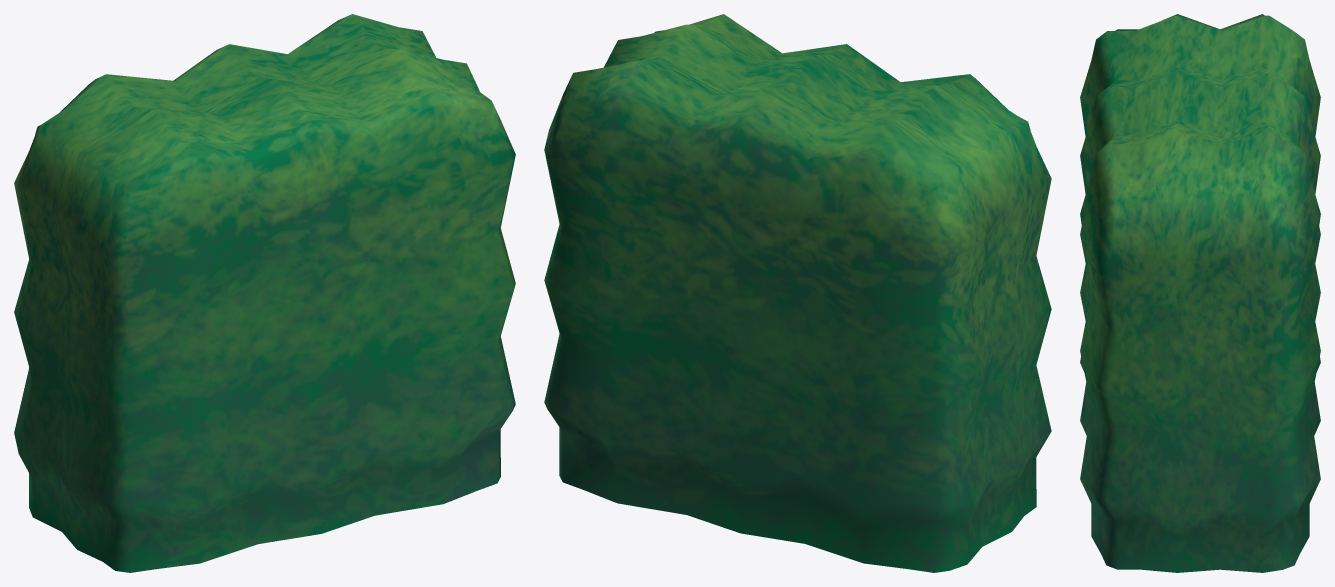
Rendered from NAEGI_02.fbx.
3 renders of one model, left to right at view 1: azimuth 30°, elevation 25°; view 2: azimuth 150°, elevation 25°; view 3: azimuth 270°, elevation 25°, orthographic. The views are drawn at different scales.
Visible parts, largest first — view 1: NAEGI_02; view 2: NAEGI_02; view 3: NAEGI_02.
Boxes of the visible parts, x1,y1,x2,y2 form: NAEGI_02: (14, 14, 515, 572); NAEGI_02: (544, 14, 1051, 572); NAEGI_02: (1080, 14, 1320, 572).
Bounding box in the file's own units: 105 × 101 × 54.08.
1 material, 1 textured.
